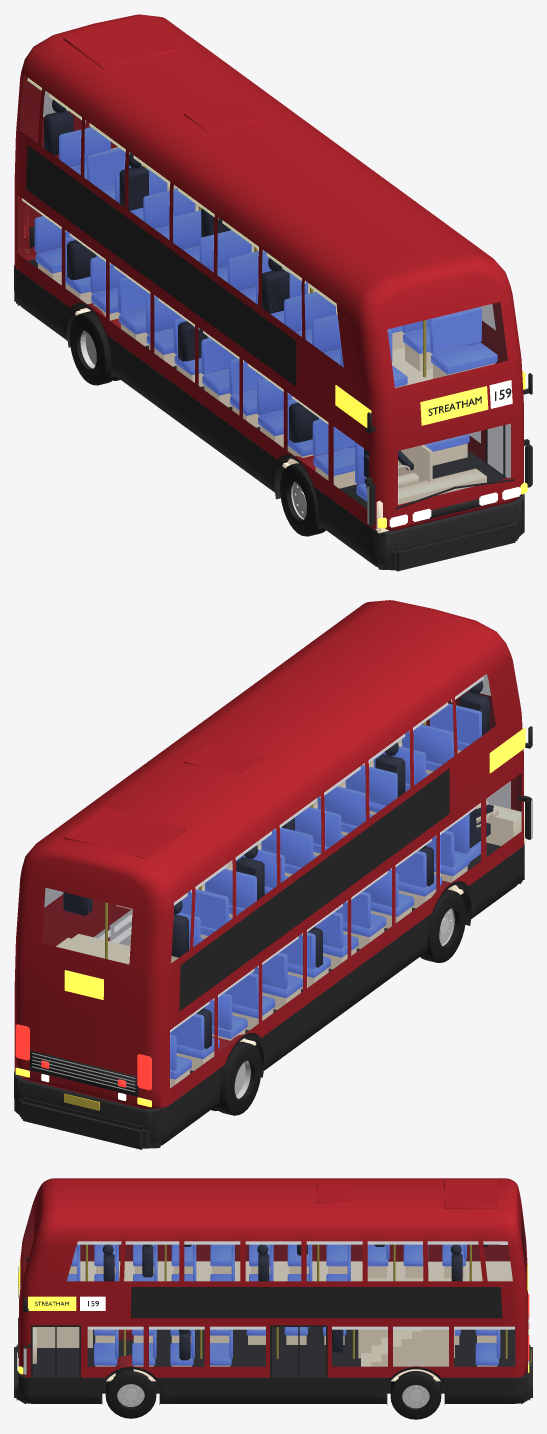
File: bus.glb
3 renders of one model, top to bottom at view 1: azimuth 30°, elevation 25°; view 2: azimuth 150°, elevation 25°; view 3: azimuth 270°, elevation 25°, orthographic. The views are drawn at different scales.
Parts seen in each view (by area): view 1: body, glass, interior, trim, passengers, emit_sign, wheel_rr, wheel_fr, emit_window, mirrors, lights; view 2: body, glass, trim, interior, passengers, wheel_rr, wheel_fr, emit_window, emit_sign, lights; view 3: body, glass, trim, interior, emit_window, passengers, wheel_rl, wheel_fl, emit_sign.
Boxes of the visible parts, x1,y1,x2,y2 form: body: [14, 14, 523, 530]; glass: [17, 75, 510, 508]; interior: [34, 127, 497, 533]; trim: [14, 145, 524, 571]; passengers: [44, 100, 413, 488]; emit_sign: [335, 371, 525, 427]; wheel_rr: [69, 311, 120, 385]; wheel_fr: [280, 463, 325, 536]; emit_window: [22, 78, 336, 424]; mirrors: [364, 373, 532, 525]; lights: [24, 206, 527, 528]; body: [14, 600, 523, 1108]; glass: [42, 674, 521, 1087]; trim: [14, 768, 524, 1149]; interior: [56, 703, 525, 1088]; passengers: [63, 681, 493, 1048]; wheel_rr: [211, 1041, 261, 1115]; wheel_fr: [420, 889, 466, 962]; emit_window: [98, 676, 483, 1032]; emit_sign: [64, 727, 525, 999]; lights: [15, 1024, 151, 1107]; body: [19, 1178, 527, 1377]; glass: [23, 1203, 525, 1377]; trim: [14, 1287, 532, 1404]; interior: [32, 1244, 512, 1381]; emit_window: [77, 1241, 514, 1329]; passengers: [102, 1242, 488, 1360]; wheel_rl: [390, 1371, 441, 1419]; wheel_fl: [105, 1369, 156, 1418]; emit_sign: [18, 1259, 528, 1310].
Bounding box in the file's own units: 2.56 × 4.35 × 10.2.
